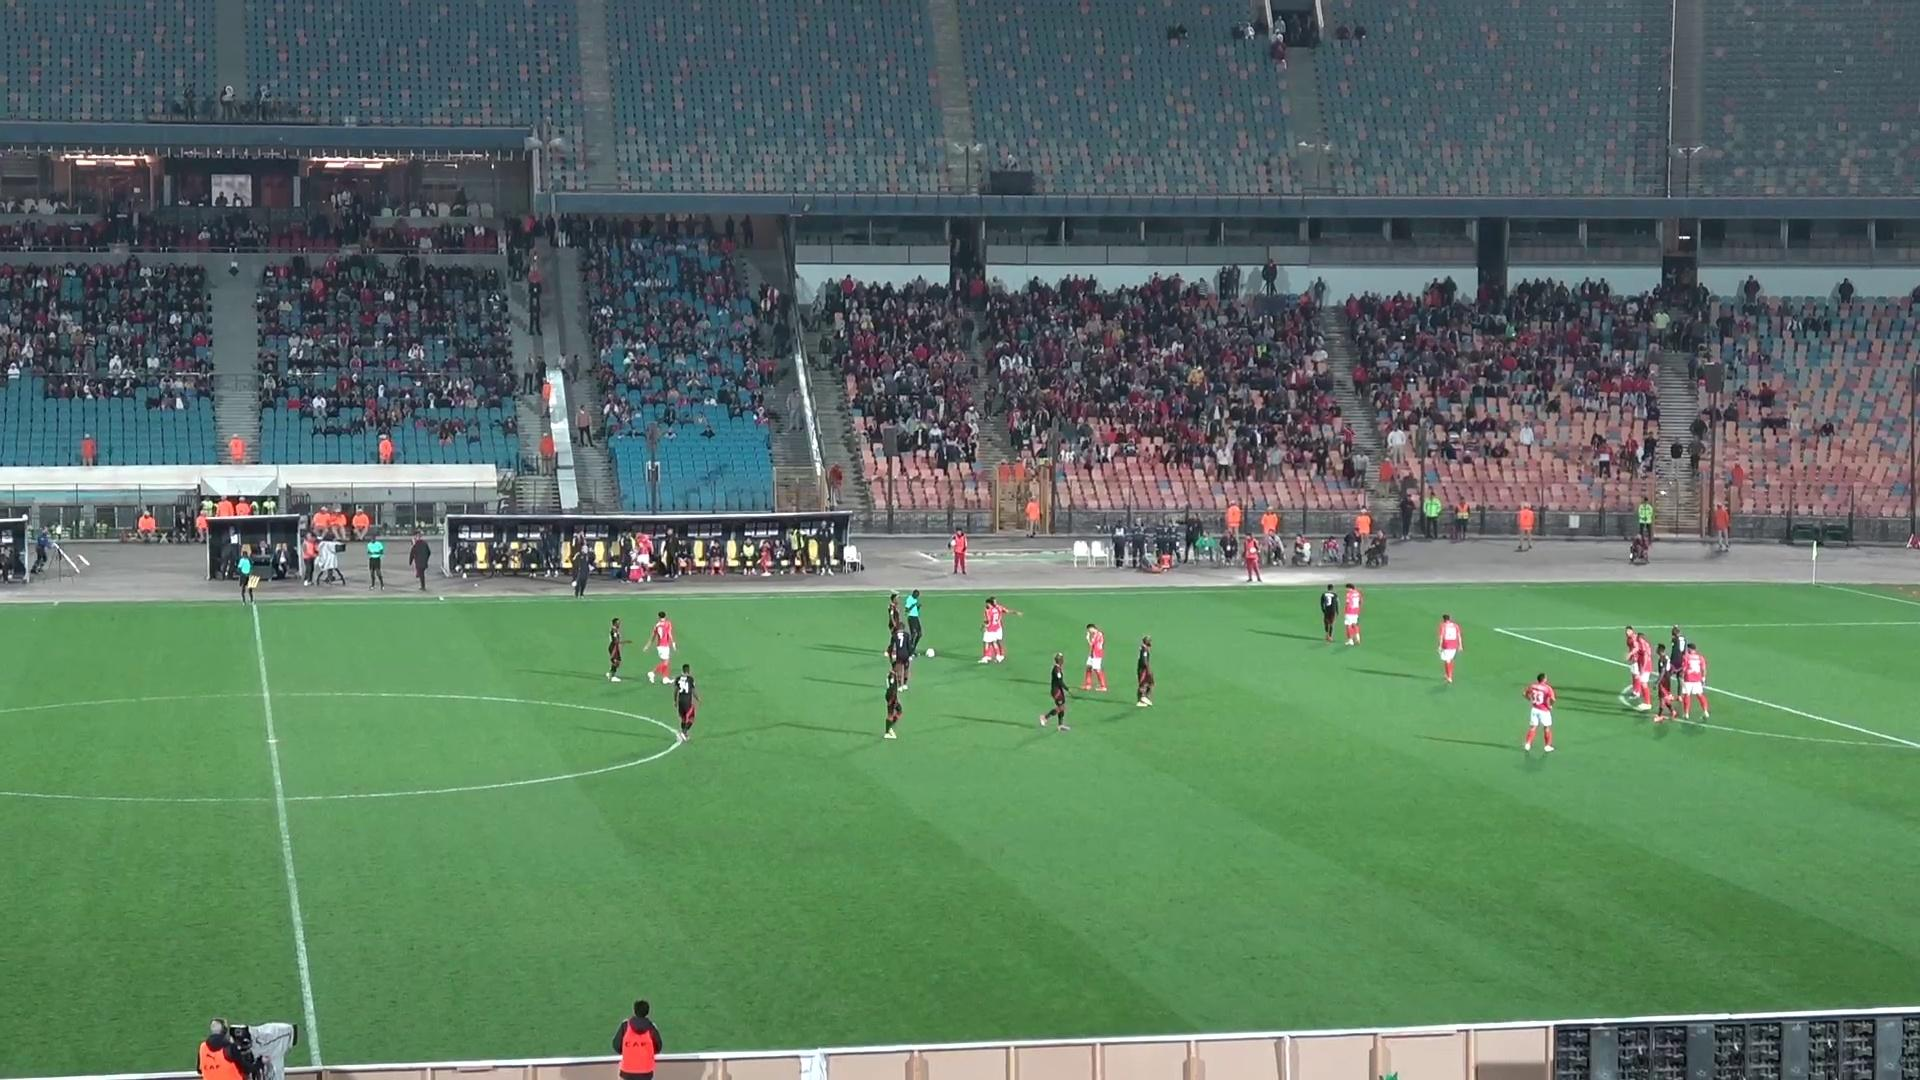Ball: (918, 642, 938, 659)
Refree: (905, 589, 935, 661), (233, 545, 260, 603), (364, 530, 385, 589)
Team1: (1669, 638, 1709, 721), (1622, 626, 1655, 712), (1523, 673, 1555, 752), (978, 596, 1015, 663), (646, 612, 676, 682), (1079, 622, 1106, 692), (1436, 615, 1462, 684), (1335, 584, 1364, 646)
Team2: (1654, 628, 1683, 723), (1038, 655, 1069, 731), (670, 663, 700, 738), (885, 622, 915, 682), (882, 669, 906, 738), (605, 617, 629, 682), (1319, 584, 1342, 642), (1135, 636, 1154, 705), (1662, 625, 1688, 669), (886, 593, 905, 634)
